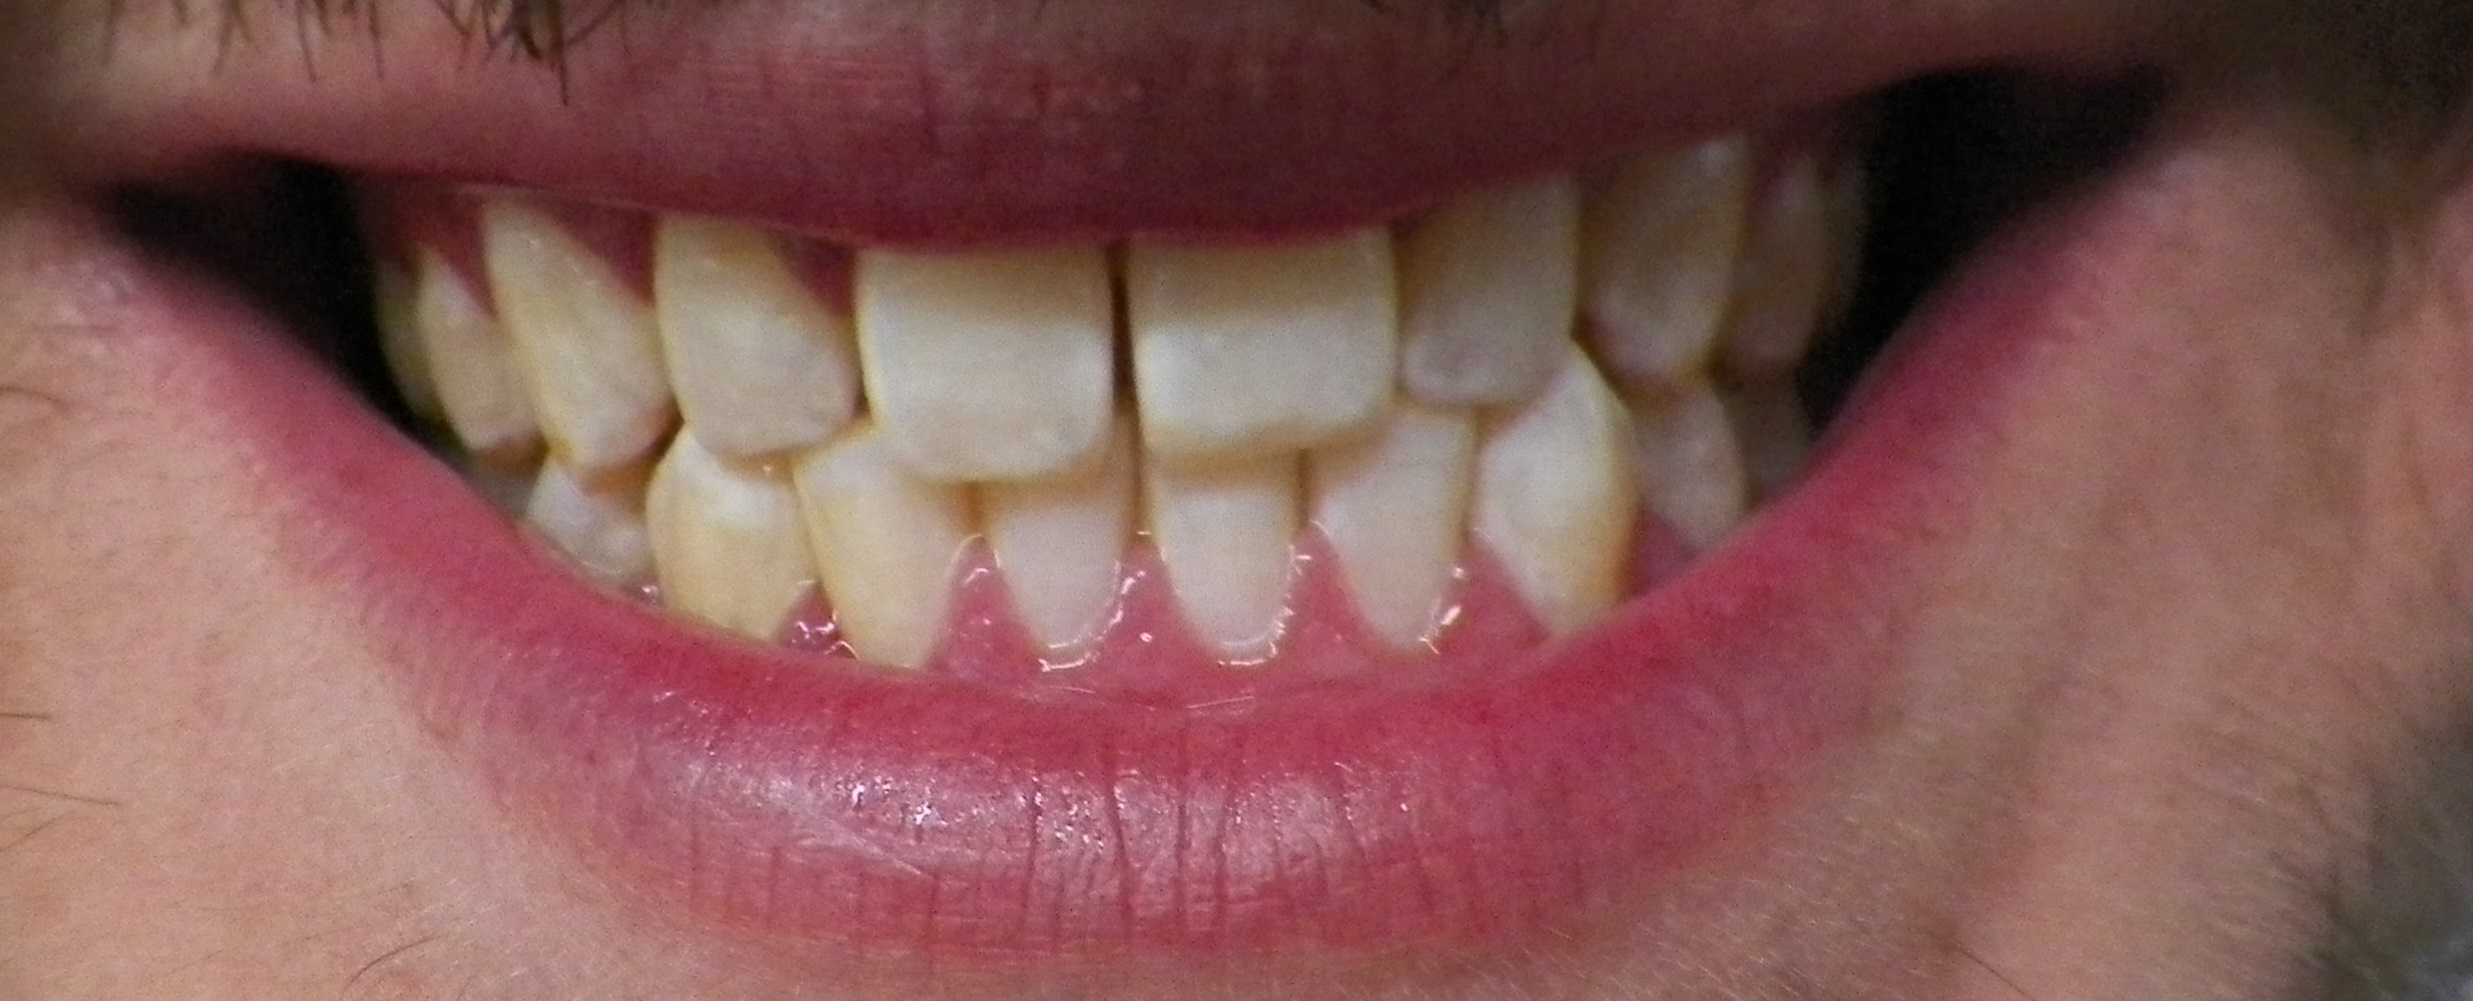boca: (397, 98, 1923, 651)
